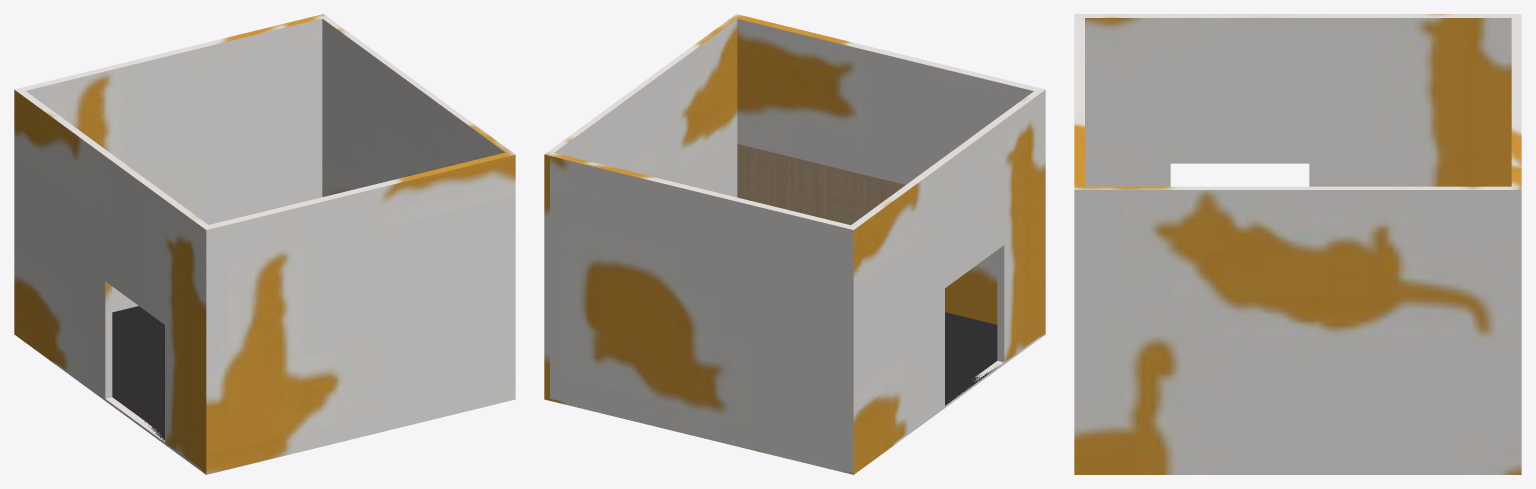
File: Office Ext.fbx
The picture shows the model from 3 angles, left to right: view 1: azimuth 30°, elevation 25°; view 2: azimuth 150°, elevation 25°; view 3: azimuth 270°, elevation 25°; orthographic projection. The views are drawn at different scales.
Visible parts, largest first — view 1: Office_Ext_and_Room:OfficeExtandRoom; view 2: Office_Ext_and_Room:OfficeExtandRoom; view 3: Office_Ext_and_Room:OfficeExtandRoom.
Boxes of the visible parts, x1=… form: Office_Ext_and_Room:OfficeExtandRoom: x1=14, y1=14, x2=515, y2=474; Office_Ext_and_Room:OfficeExtandRoom: x1=544, y1=14, x2=1045, y2=474; Office_Ext_and_Room:OfficeExtandRoom: x1=1074, y1=14, x2=1521, y2=474.
Bounding box in the file's own units: 977 × 738 × 1050.
